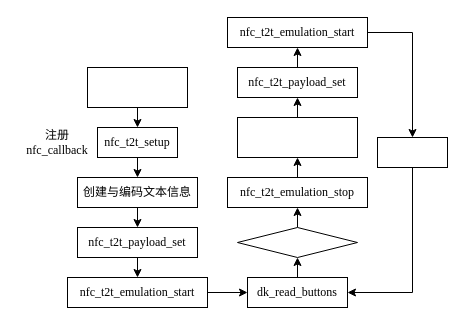
Some shapes in this 465 by 325 pixel diagram are drawn without their labels. Each missing label, with the centre of its shape:
"DK_BTN1按下？" goes at (297,242).
"延迟200ms" goes at (412,152).
"板卡（按键、LED）初始化" goes at (137,87).
"根据记录值创建与编码文本/APP信息" goes at (297,137).
